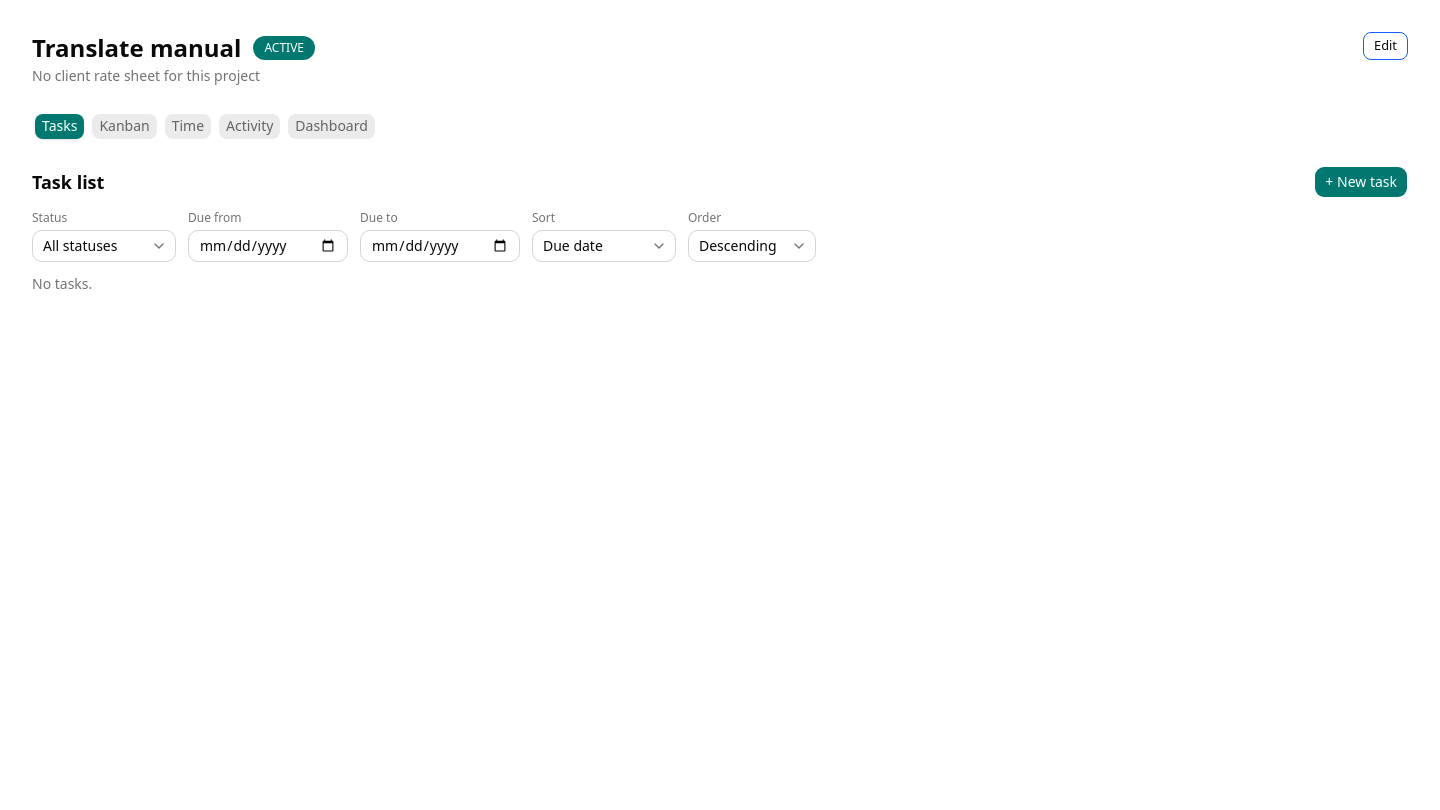
Test case: ProjectDetail › shows the KPIs and charts in the Dashboard tab
The image size is (1440, 810).
expect the heading "Translate manual" is shown: met, box [32,32,241,64]
Press the mouse on the tab "Dashboard" at (332, 126), box [288,114,375,138]
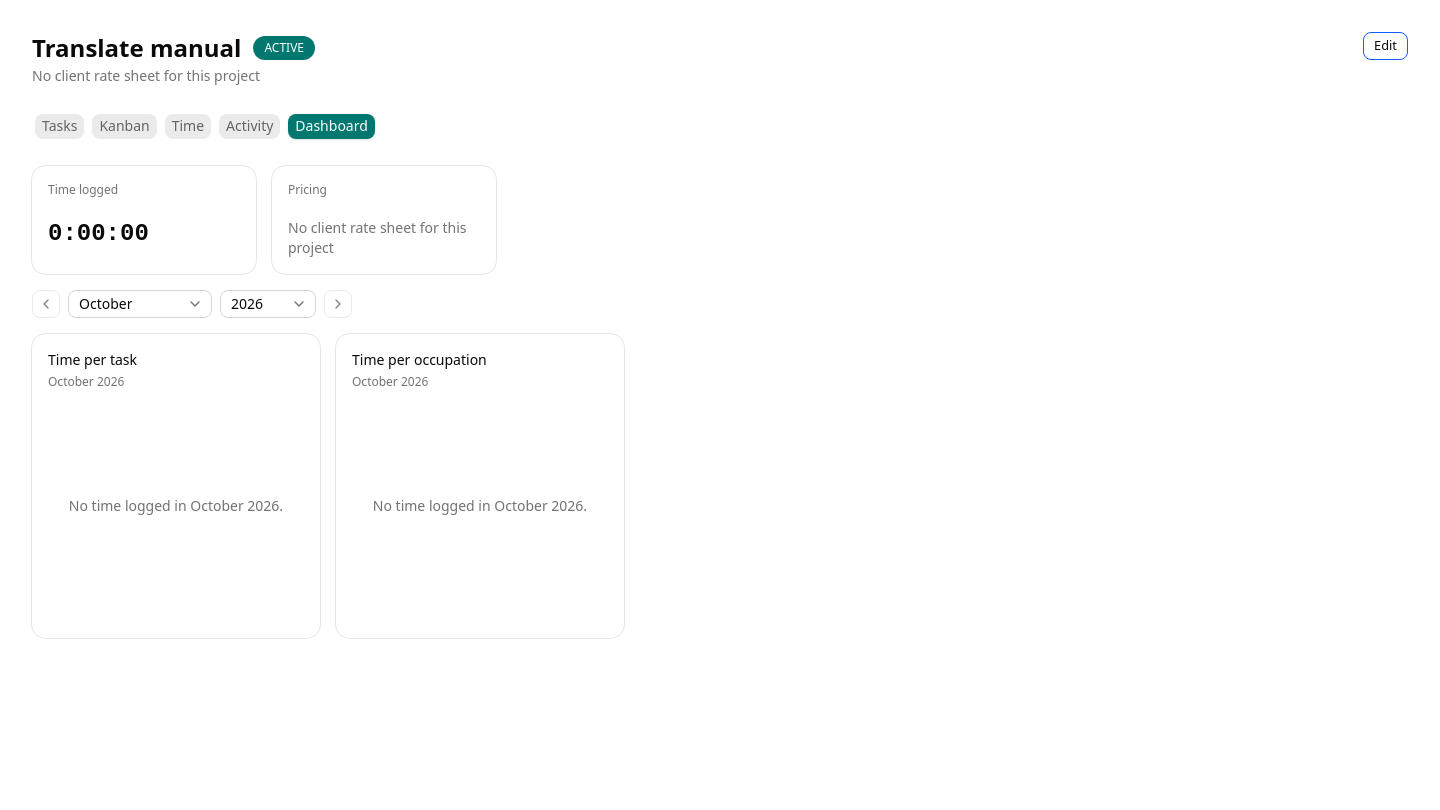
expect the text "Time logged" is shown: met, box [48,181,118,198]
expect the text "Time per task" is shown: met, box [48,350,137,369]
expect the text "Time per occupation" is shown: met, box [352,350,487,369]
